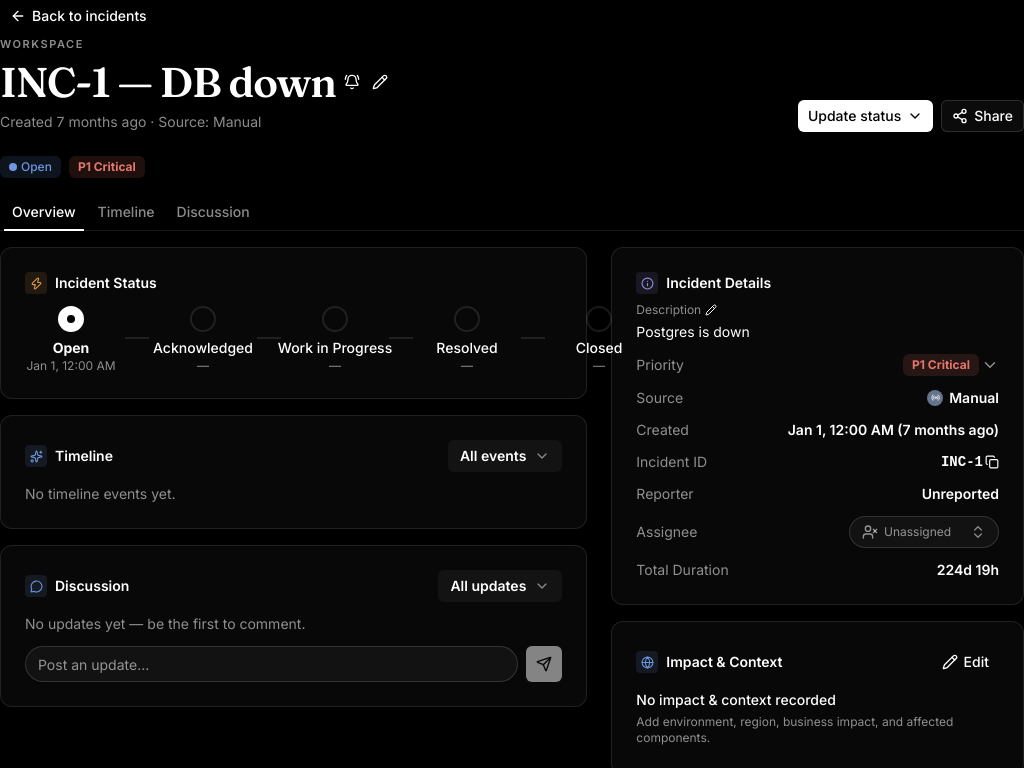
Test: IncidentDetailPage — impact & context › opens the impact/context edit dialog
Click the button "Edit" at (965, 662), box [932, 646, 999, 678]
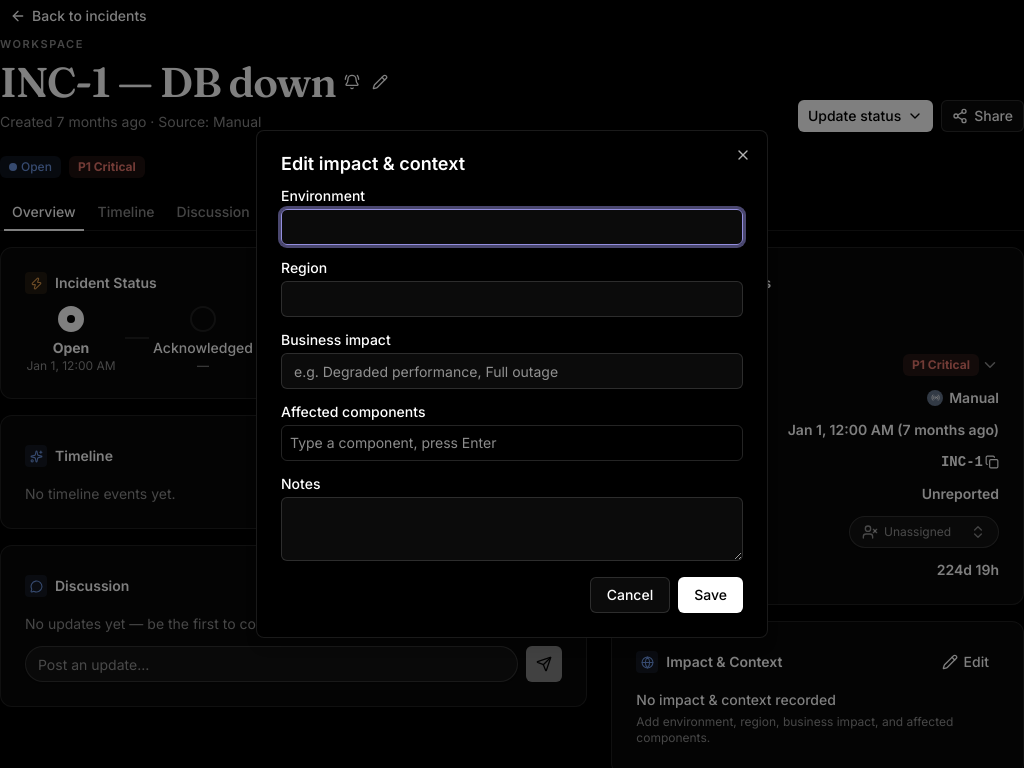
Check: the dialog is shown, box [256, 130, 768, 638]
